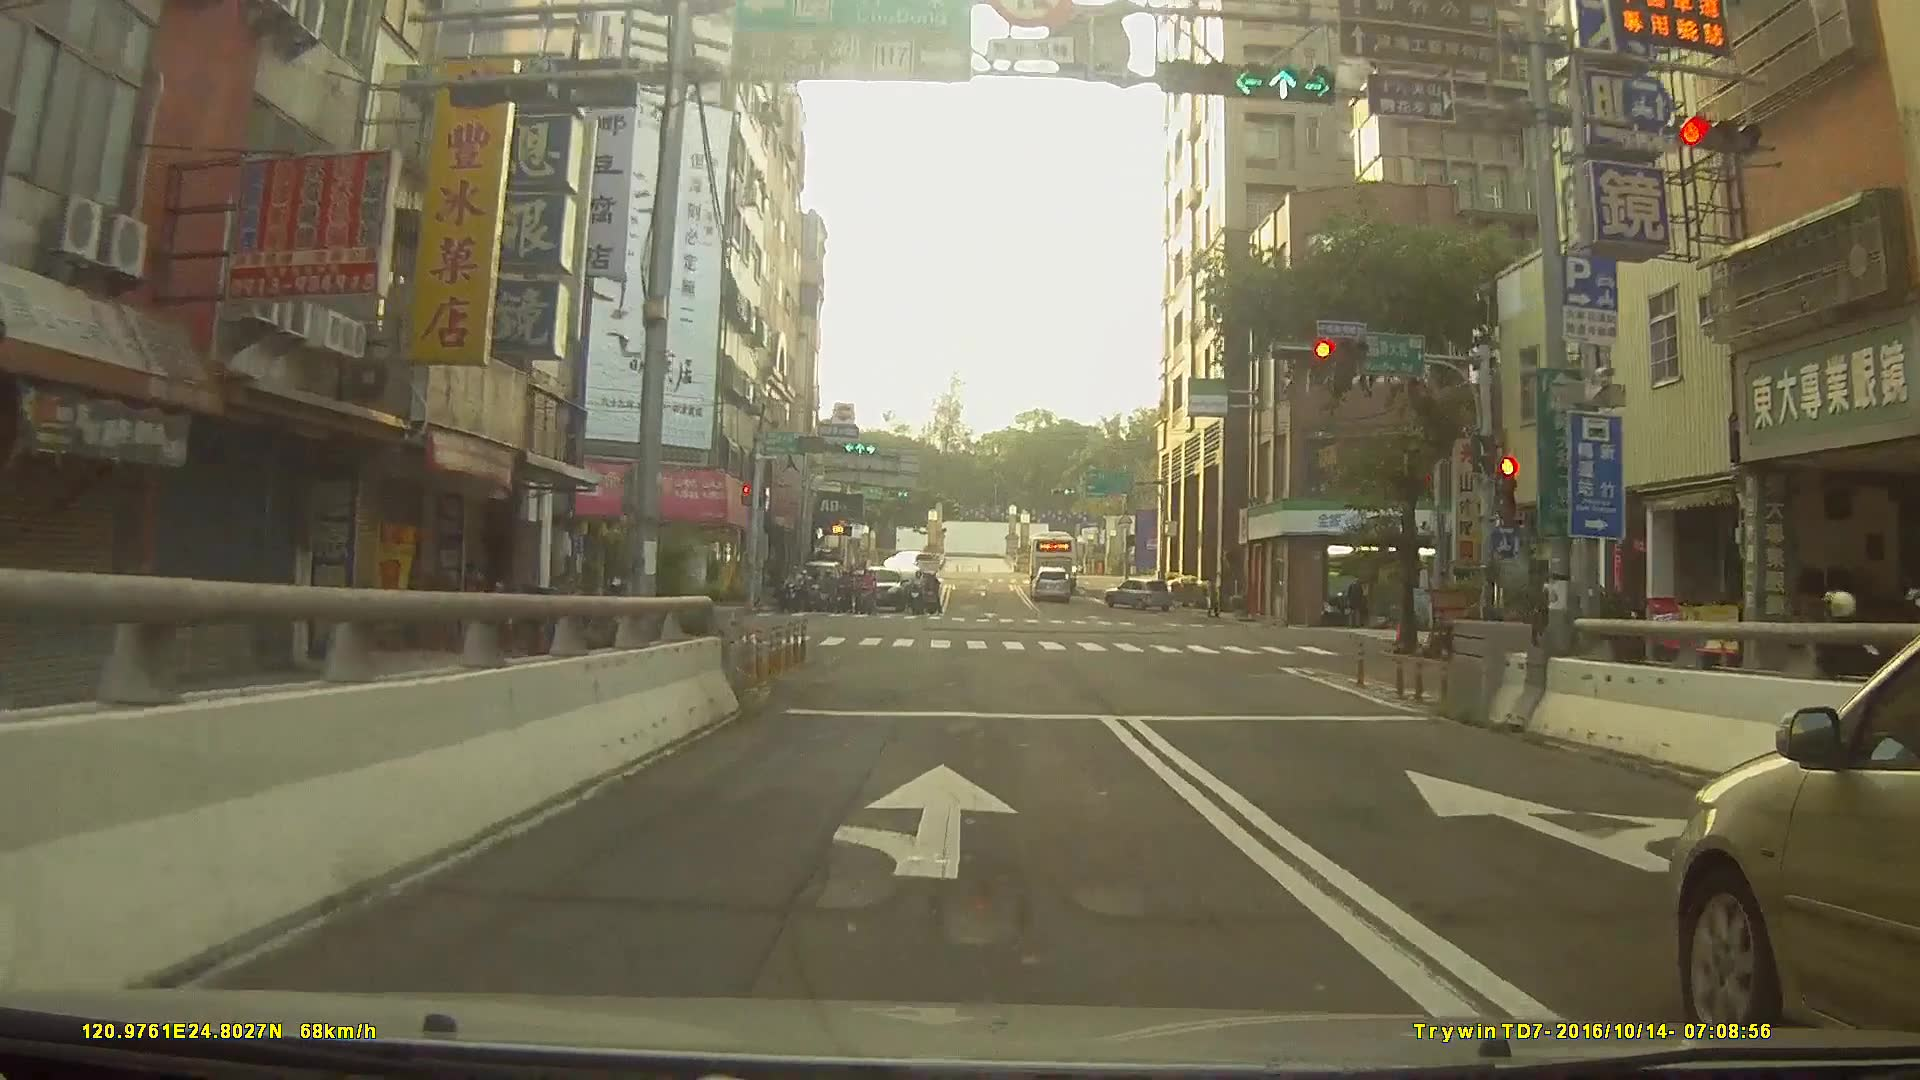pedestrian: (1345, 574, 1369, 630), (1204, 582, 1224, 620)
vehicle: (1670, 630, 1920, 1040), (1025, 533, 1080, 583), (1102, 575, 1175, 610), (856, 565, 906, 612), (878, 547, 936, 575), (1031, 566, 1074, 601)
